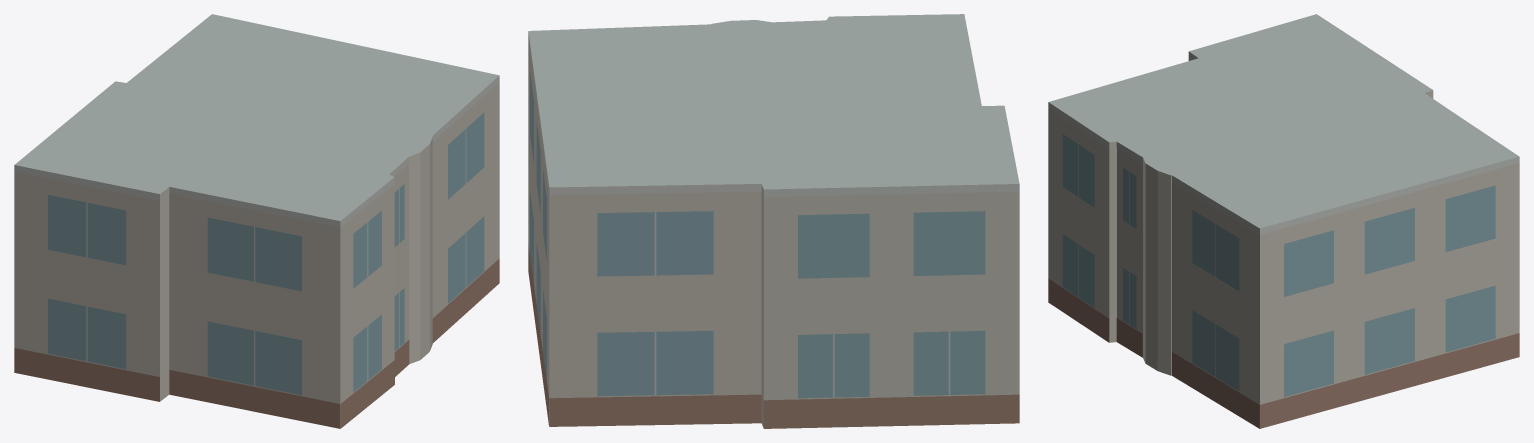
Rendered from survey-upis-32624877.glb.
3 views of the same model, side by side, from view 1: azimuth 30°, elevation 25°; view 2: azimuth 150°, elevation 25°; view 3: azimuth 270°, elevation 25° (orthographic). The views are drawn at different scales.
Visible parts, largest first — view 1: survey-upis-32624877.tmp; view 2: survey-upis-32624877.tmp; view 3: survey-upis-32624877.tmp.
Boxes of the visible parts, left/top/right/bottom form: survey-upis-32624877.tmp: left=14, top=14, right=499, bottom=428; survey-upis-32624877.tmp: left=528, top=14, right=1019, bottom=428; survey-upis-32624877.tmp: left=1048, top=14, right=1519, bottom=428.
Size of the model in its own units: 17.46 by 7.6 by 16.21.
